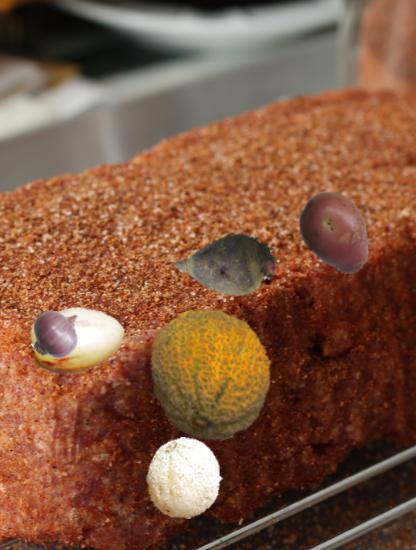Beetroot: (172, 211, 282, 321)
Cantaloupe: (144, 307, 278, 441), (143, 437, 226, 520)
Onion: (30, 306, 84, 360)
Pepino: (29, 291, 128, 390)
Potato: (294, 188, 382, 276)
